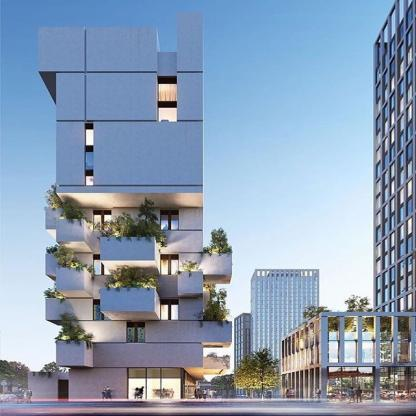Building Outline: (28, 12, 232, 399)
Facade: (28, 12, 232, 399)
Glass Wall: (129, 368, 181, 399), (184, 370, 195, 399)
Window: (159, 84, 177, 102), (159, 108, 177, 121), (86, 152, 94, 170), (86, 130, 94, 145), (104, 305, 112, 320), (94, 305, 102, 320), (137, 328, 145, 343), (161, 305, 169, 319), (171, 305, 179, 319), (94, 215, 101, 230), (162, 215, 169, 230), (171, 215, 178, 230), (162, 260, 169, 275), (171, 260, 178, 275), (128, 328, 135, 343), (103, 260, 110, 274), (94, 260, 101, 274), (104, 215, 110, 230), (86, 176, 93, 185)
